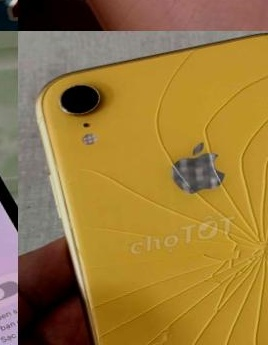physical_damage: (45, 31, 268, 345)
